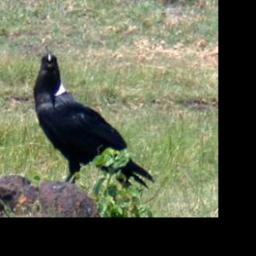Crow: (31, 50, 156, 194)
